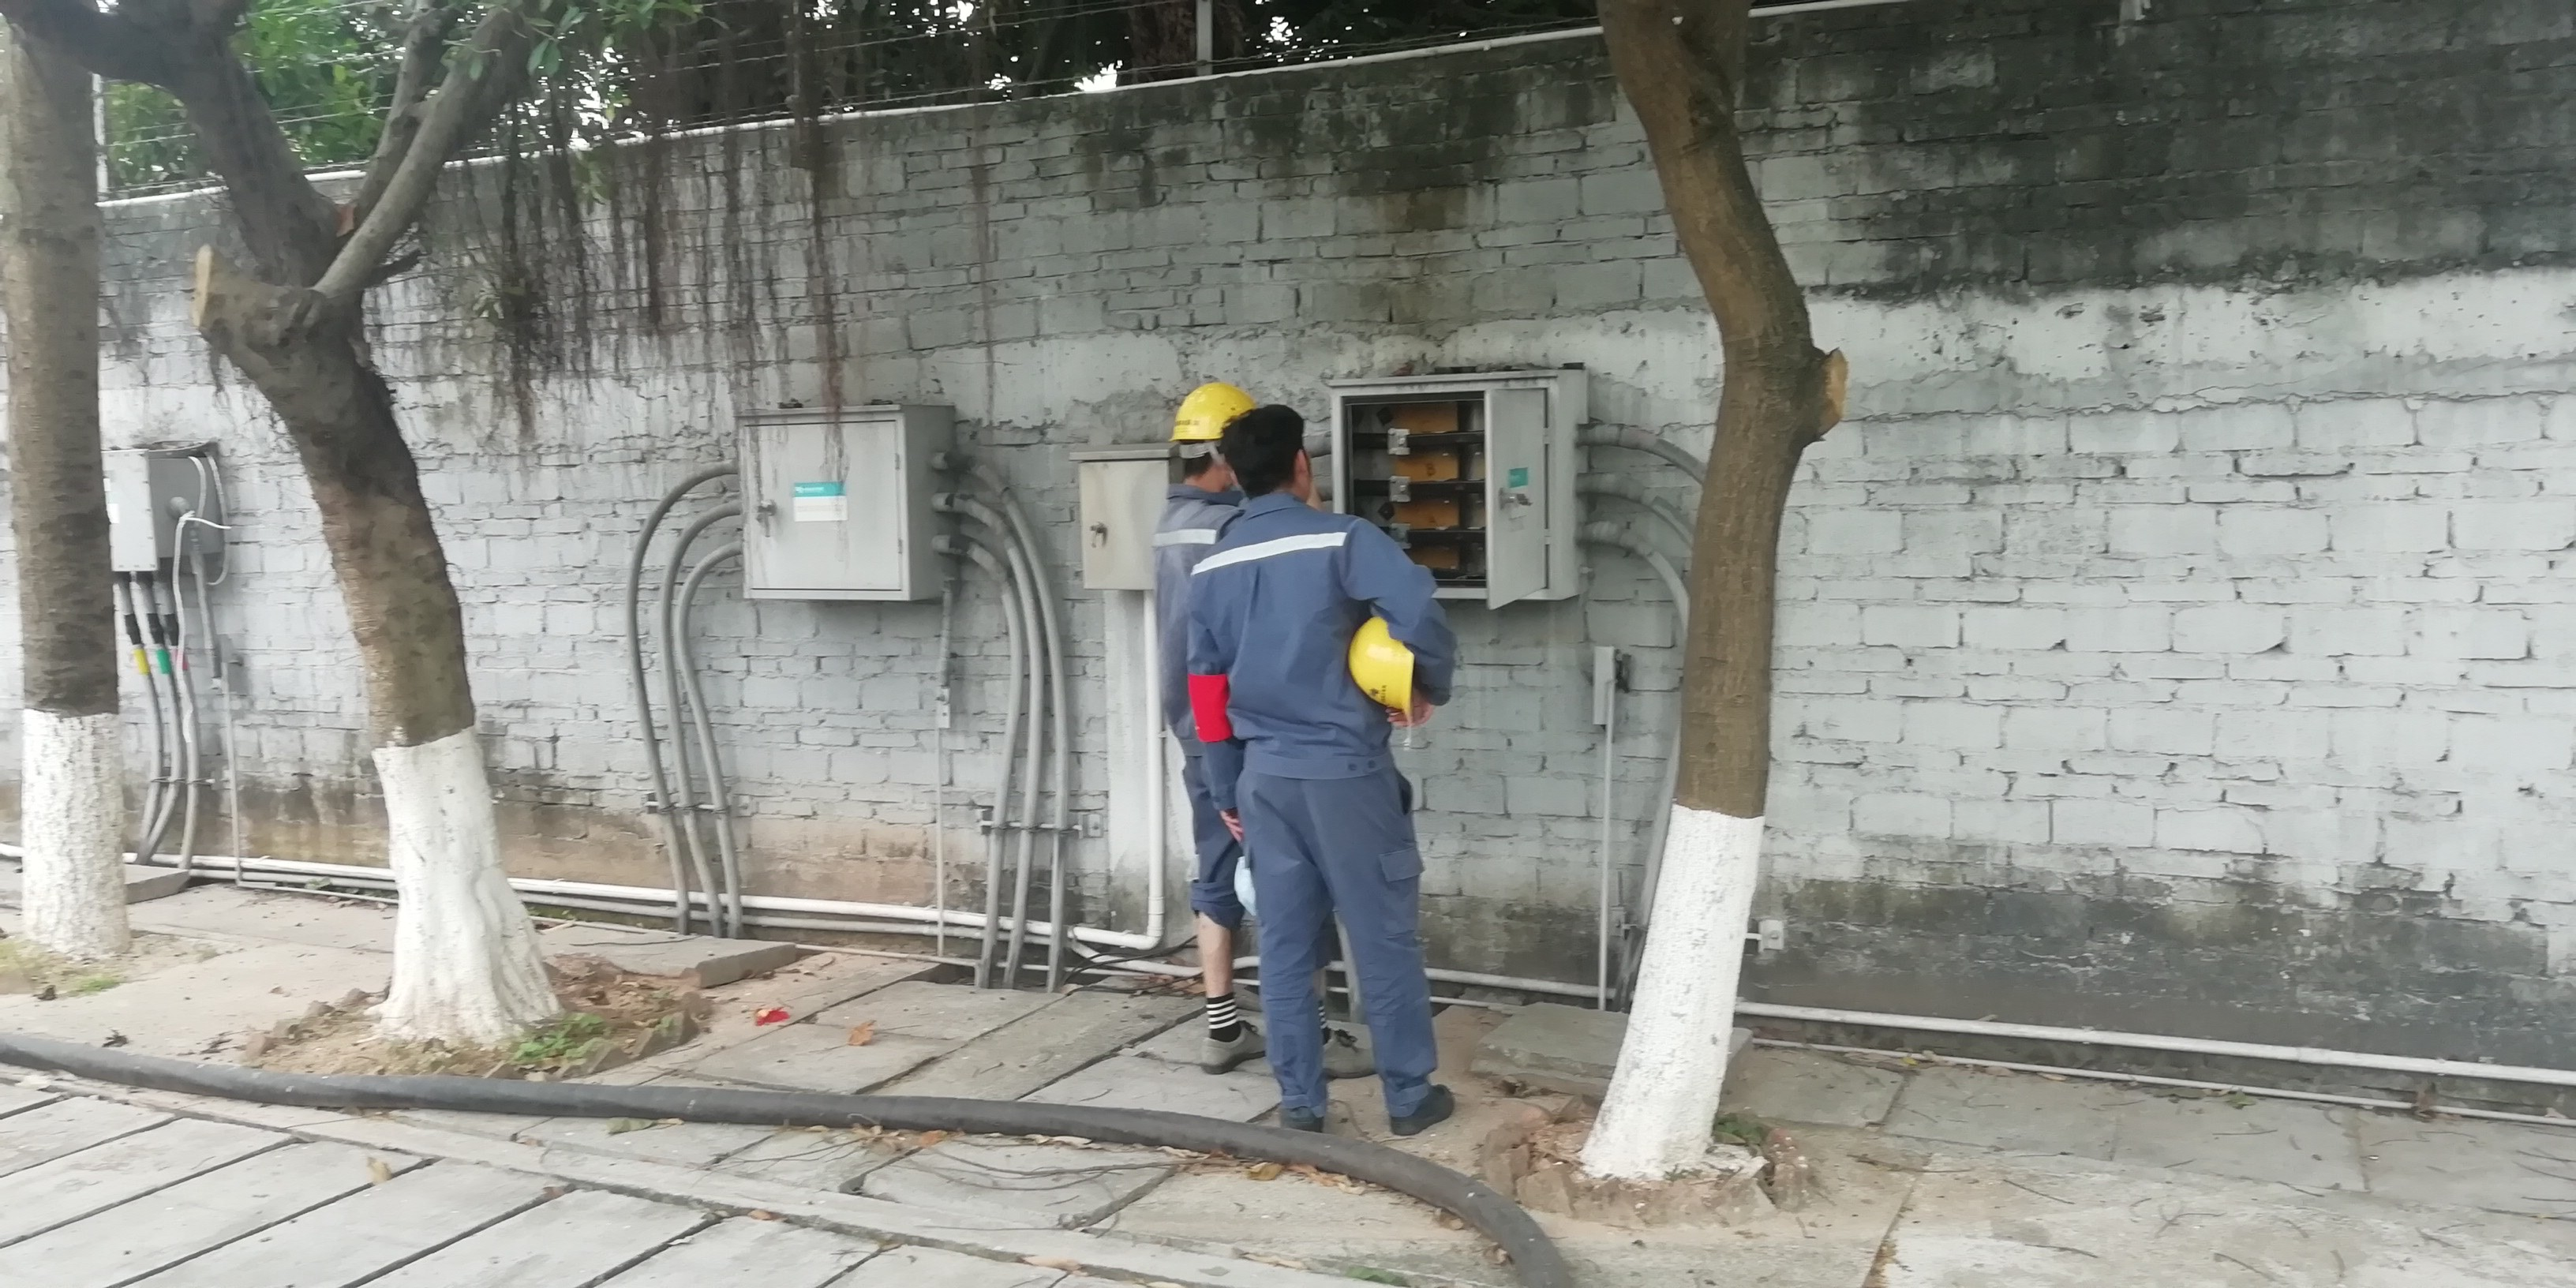downsuit: (1229, 764, 1449, 1119), (1186, 749, 1245, 936)
upsuit: (1188, 493, 1462, 754), (1155, 501, 1221, 733)
wrongbottom: (1188, 900, 1239, 1005)
